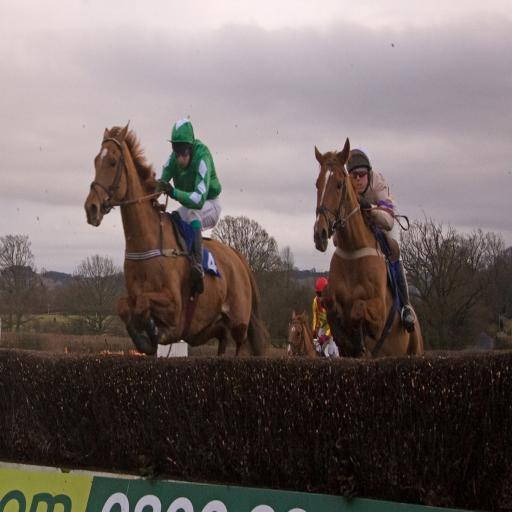horse: (84, 120, 270, 356), (313, 138, 426, 360), (286, 308, 320, 360)
